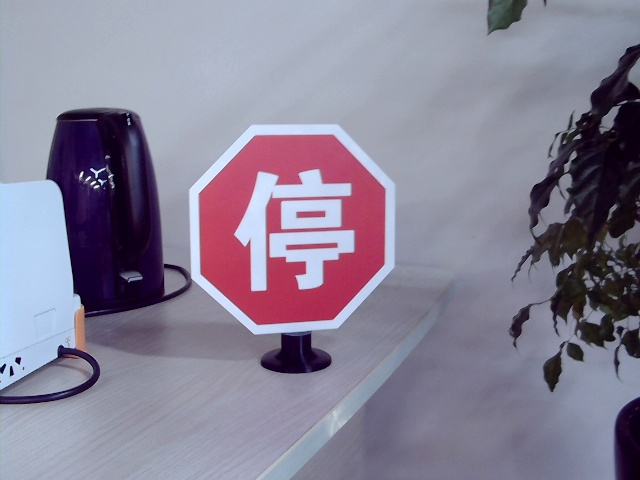stop: (232, 163, 356, 293)
